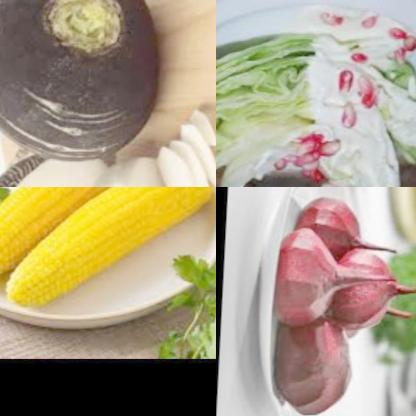beans: (280, 129, 350, 186), (333, 71, 380, 131), (389, 23, 416, 69), (323, 13, 349, 37), (350, 52, 373, 74), (360, 13, 379, 33)
beet: (279, 319, 362, 416), (329, 247, 408, 330), (283, 233, 348, 330), (299, 192, 373, 264)
corn: (10, 187, 216, 312), (0, 187, 169, 280)
redka: (0, 0, 163, 163), (153, 102, 216, 187), (80, 153, 191, 187)
salad: (216, 42, 317, 187), (388, 61, 416, 168)
